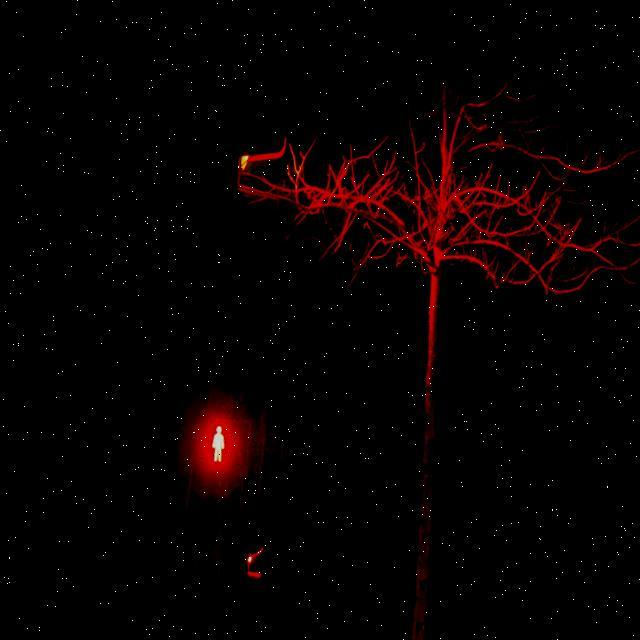red_light: (210, 423, 228, 468)
